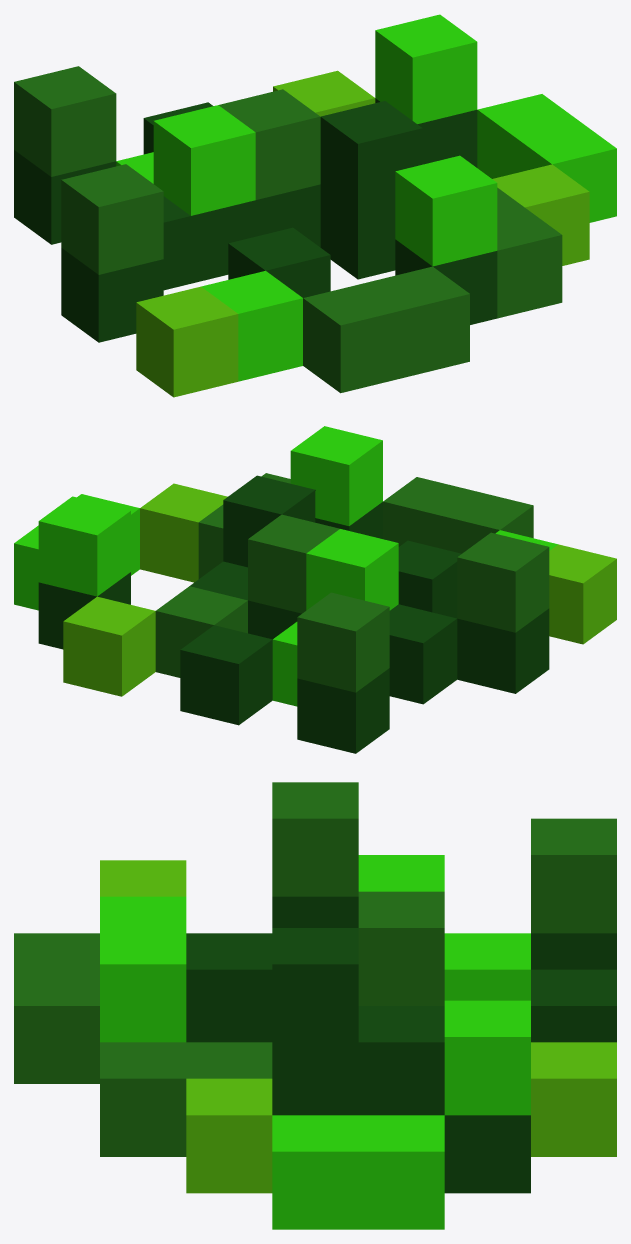
File: Foliage.fbx
3 renders of one model, top to bottom at view 1: azimuth 30°, elevation 25°; view 2: azimuth 150°, elevation 25°; view 3: azimuth 270°, elevation 25°, orthographic. The views are drawn at different scales.
Visible parts, largest first — view 1: Enviroment 2.001; view 2: Enviroment 2.001; view 3: Enviroment 2.001.
Part boxes in pixels (x1,y1,x2,y2): Enviroment 2.001: (14, 14, 616, 397); Enviroment 2.001: (14, 426, 616, 753); Enviroment 2.001: (14, 782, 616, 1229).
Size of the model in its own units: 0.8 by 0.2 by 0.7.
